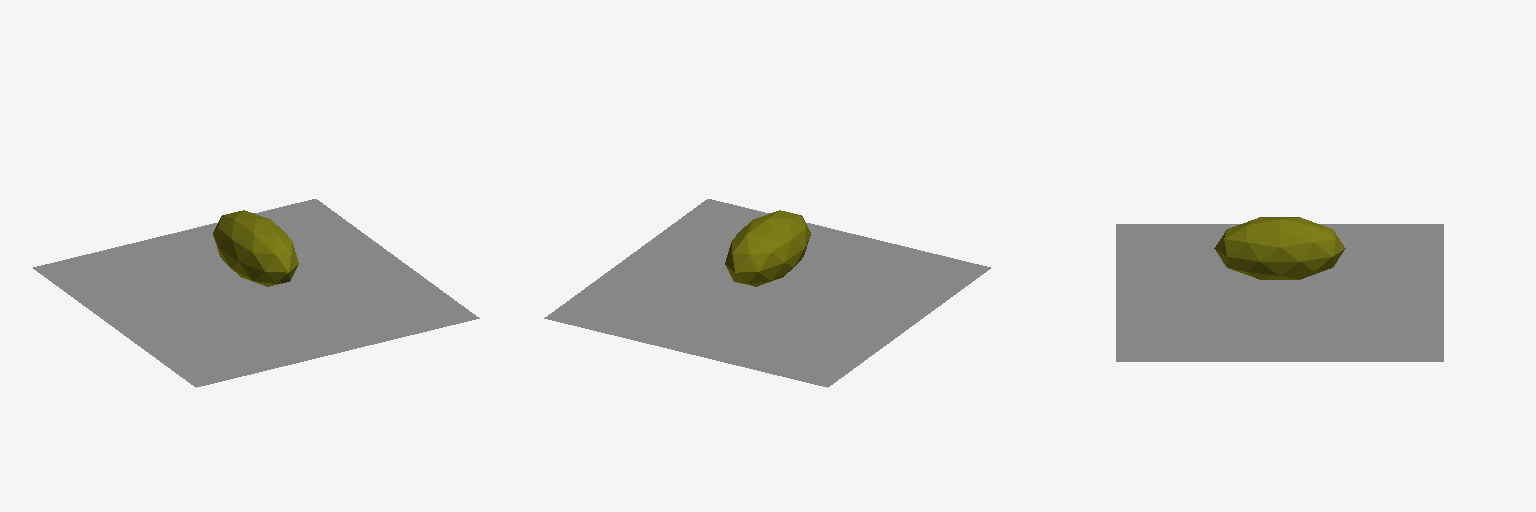
Rendered from zeppelin.obj.
The picture shows the model from 3 angles: view 1: azimuth 30°, elevation 25°; view 2: azimuth 150°, elevation 25°; view 3: azimuth 270°, elevation 25°; orthographic projection.
Parts seen in each view (by area): view 1: Plane_Plane.003, Icosphere; view 2: Plane_Plane.003, Icosphere; view 3: Plane_Plane.003, Icosphere.
Boxes of the visible parts, <box> form: Plane_Plane.003: <box>33,199,479,387</box>; Icosphere: <box>213,210,298,286</box>; Plane_Plane.003: <box>544,199,990,387</box>; Icosphere: <box>725,210,810,286</box>; Plane_Plane.003: <box>1116,224,1443,361</box>; Icosphere: <box>1214,217,1345,279</box>.
Bounding box in the file's own units: 2 × 0.5 × 2.